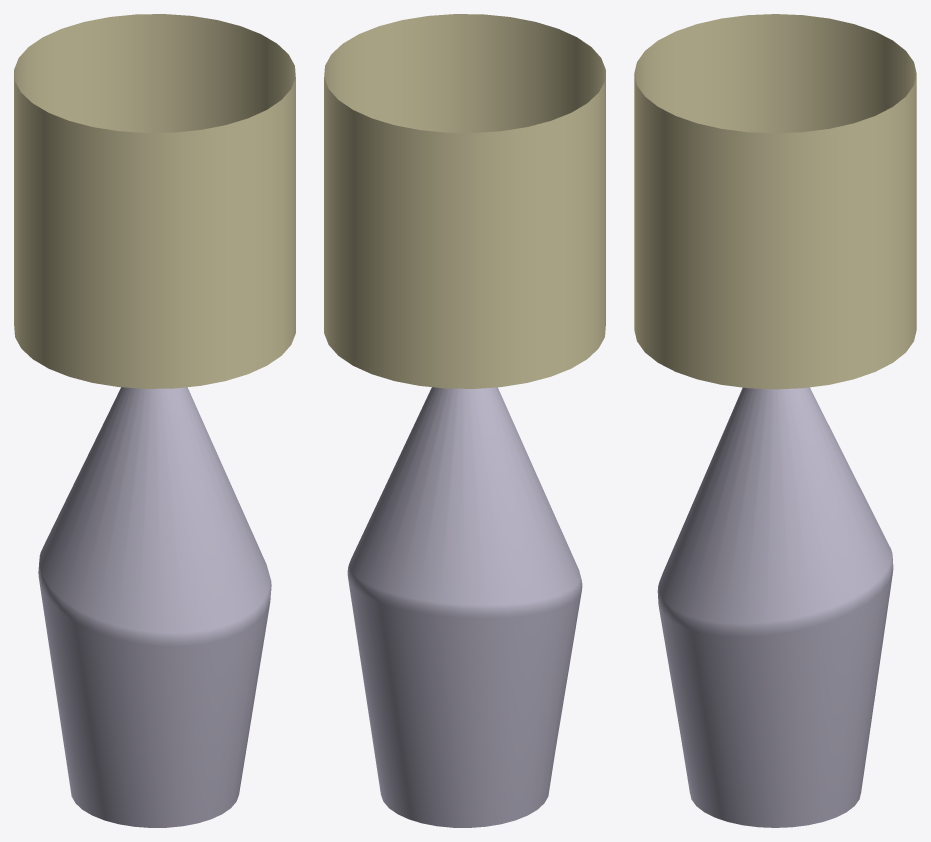
File: Lamparita.fbx
3 views of the same model, side by side, from view 1: azimuth 30°, elevation 25°; view 2: azimuth 150°, elevation 25°; view 3: azimuth 270°, elevation 25° (orthographic).
Parts seen in each view (by area): view 1: Lampara; view 2: Lampara; view 3: Lampara.
Boxes of the visible parts, box(x1,y1,x2,y2) form: Lampara: box(14, 14, 295, 827); Lampara: box(324, 14, 605, 827); Lampara: box(634, 14, 916, 827).
Size of the model in its own units: 2.03 by 5.71 by 2.03.
